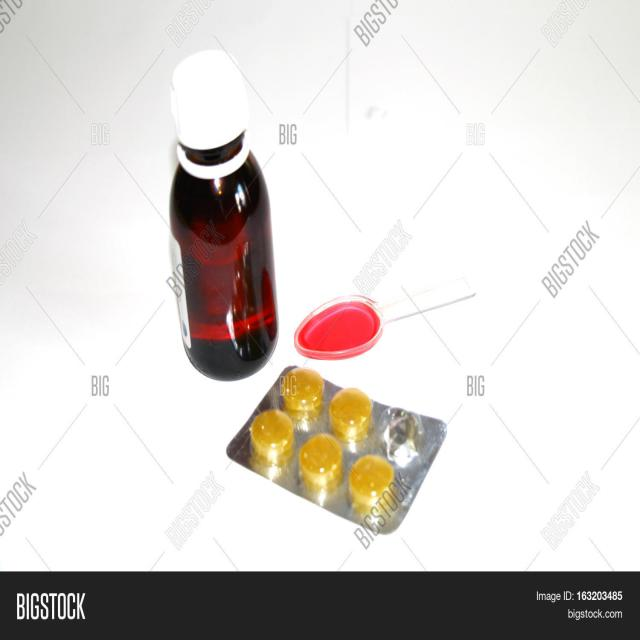B3: (150, 41, 291, 381), (215, 352, 454, 542)
